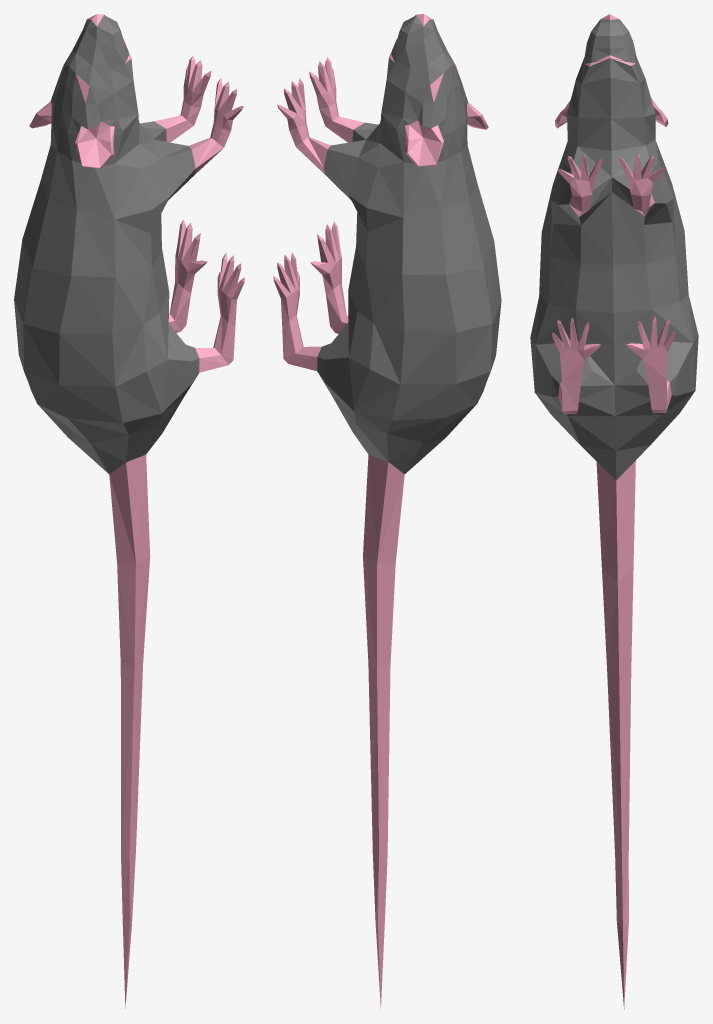
File: rat (3).fbx
3 views of the same model, side by side, from view 1: azimuth 30°, elevation 25°; view 2: azimuth 150°, elevation 25°; view 3: azimuth 270°, elevation 25° (orthographic). The views are drawn at different scales.
Visible parts, largest first — view 1: grp1; view 2: grp1; view 3: grp1.
Boxes of the visible parts, x1=… form: grp1: x1=14, y1=14, x2=244, y2=1008; grp1: x1=273, y1=14, x2=501, y2=1008; grp1: x1=530, y1=14, x2=698, y2=1009.
Bounding box in the file's own units: 28.63 × 144 × 22.48.
1 material, 1 textured.
